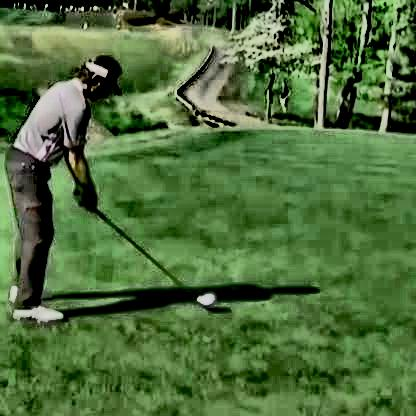golfball: (198, 295, 216, 305)
